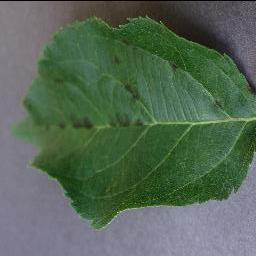apple healthy: (14, 13, 255, 230)
